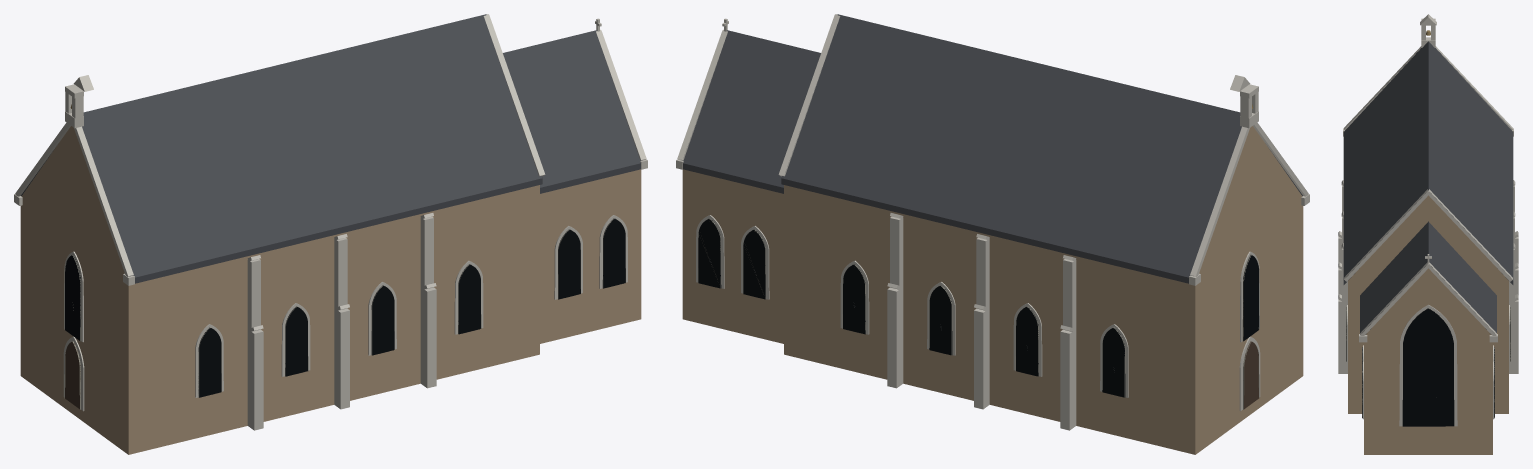
The model's file is context.church.town_catholic.glb.
3 renders of one model, left to right at view 1: azimuth 30°, elevation 25°; view 2: azimuth 150°, elevation 25°; view 3: azimuth 270°, elevation 25°, orthographic. The views are drawn at different scales.
Parts seen in each view (by area): view 1: main__stone_a97, main__clad_455, main__stone_cbb, main__glass_dark, main__stone_998, main__timber_543; view 2: main__stone_a97, main__clad_455, main__stone_cbb, main__glass_dark, main__stone_998, main__timber_543; view 3: main__clad_455, main__stone_a97, main__stone_cbb, main__glass_dark, main__stone_998.
Boxes of the visible parts, x1,y1,x2,y2 form: main__stone_a97: [20, 126, 641, 454]; main__clad_455: [21, 14, 641, 283]; main__stone_cbb: [14, 14, 647, 430]; main__glass_dark: [65, 218, 625, 397]; main__stone_998: [64, 218, 625, 409]; main__timber_543: [65, 341, 80, 409]; main__stone_a97: [682, 126, 1303, 454]; main__clad_455: [682, 14, 1302, 283]; main__stone_cbb: [676, 14, 1309, 430]; main__glass_dark: [698, 218, 1259, 397]; main__stone_998: [698, 218, 1259, 409]; main__timber_543: [1244, 341, 1258, 409]; main__clad_455: [1343, 41, 1513, 334]; main__stone_a97: [1348, 195, 1508, 454]; main__stone_cbb: [1338, 14, 1518, 426]; main__glass_dark: [1346, 307, 1510, 426]; main__stone_998: [1346, 307, 1510, 417].
Size of the model in its own units: 28.42 by 17.23 by 11.2.
